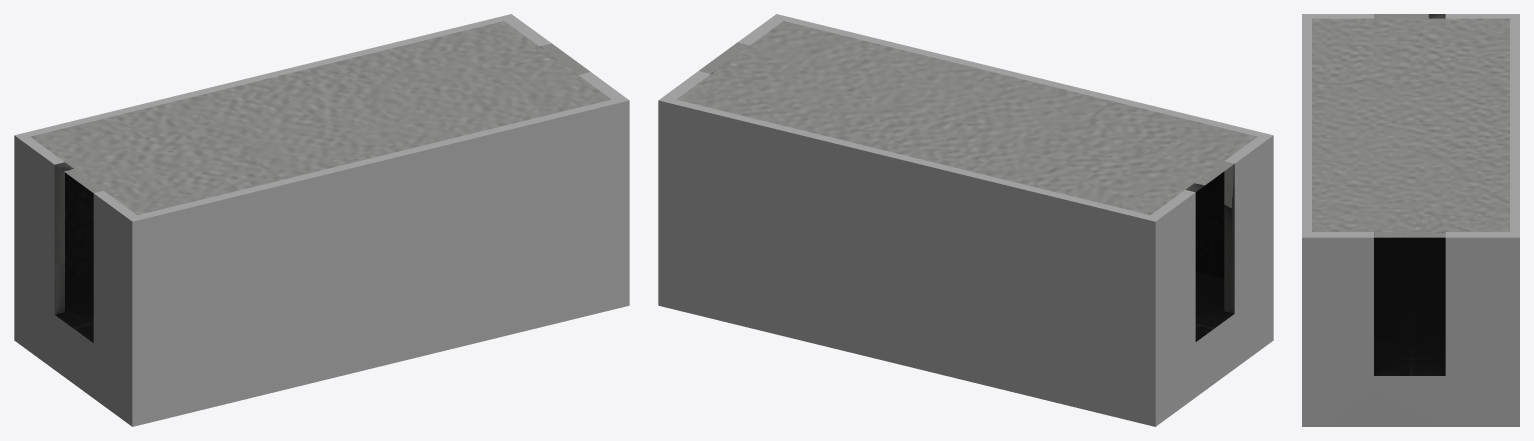
File: Hallway1Export.fbx
The picture shows the model from 3 angles, left to right: view 1: azimuth 30°, elevation 25°; view 2: azimuth 150°, elevation 25°; view 3: azimuth 270°, elevation 25°; orthographic projection. The views are drawn at different scales.
Parts seen in each view (by area): view 1: pCube1; view 2: pCube1; view 3: pCube1.
Part boxes in pixels (left/top/right/bottom): pCube1: left=14, top=14, right=629, bottom=426; pCube1: left=658, top=14, right=1273, bottom=426; pCube1: left=1302, top=14, right=1519, bottom=426.
Size of the model in its own units: 17.41 by 6.86 by 7.16.
